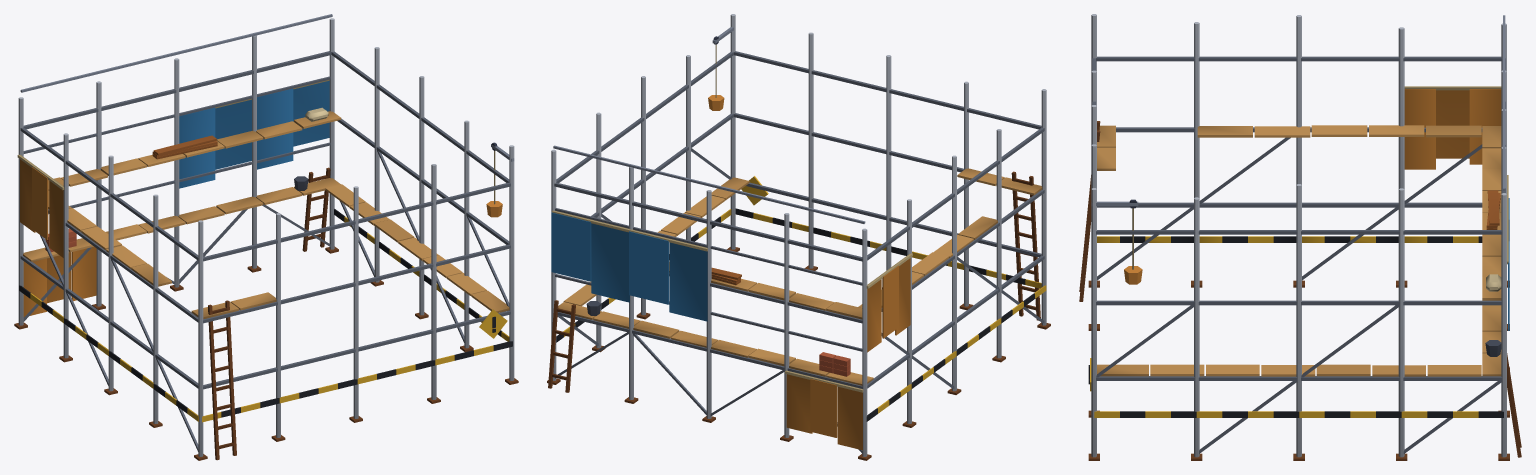
The model's file is b_scaffold_4x4.glb.
3 views of the same model, side by side, from view 1: azimuth 30°, elevation 25°; view 2: azimuth 150°, elevation 25°; view 3: azimuth 270°, elevation 25° (orthographic). The views are drawn at different scales.
Parts seen in each view (by area): view 1: body, sway_tarp1, sway_tarp3, sway_tarp2; view 2: body, sway_tarp1, sway_tarp2, sway_tarp3; view 3: body, sway_tarp3.
Boxes of the visible parts, box(x1,y1,x2,y2) form: body: box(14, 14, 518, 460); sway_tarp1: box(179, 79, 329, 188); sway_tarp3: box(17, 154, 64, 257); sway_tarp2: box(23, 246, 96, 316); body: box(547, 14, 1050, 460); sway_tarp1: box(551, 210, 707, 321); sway_tarp2: box(785, 370, 863, 450); sway_tarp3: box(866, 253, 912, 352); body: box(1079, 14, 1521, 460); sway_tarp3: box(1404, 86, 1501, 169).
Size of the model in its own units: 8.15 by 5.81 by 8.5.
